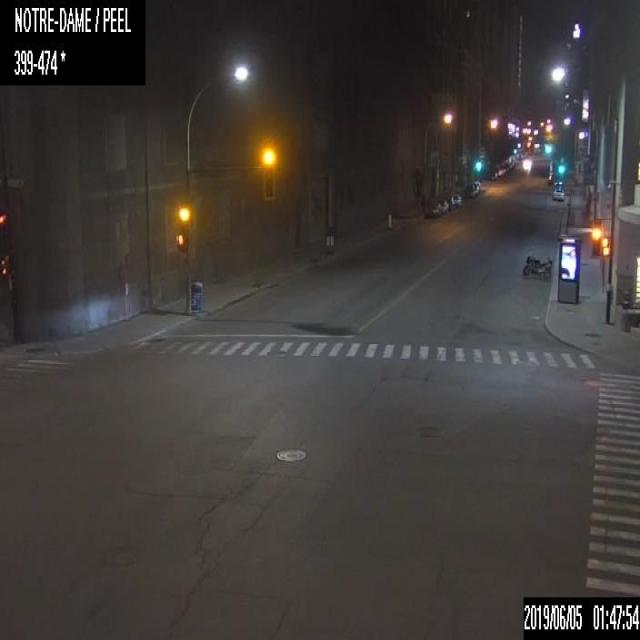construction: (324, 226, 334, 254), (387, 213, 393, 229)
vehicle: (521, 252, 553, 279), (429, 196, 448, 215), (464, 180, 479, 197), (441, 194, 454, 208), (551, 188, 565, 200), (450, 193, 461, 206), (552, 180, 563, 192), (521, 159, 531, 169)
